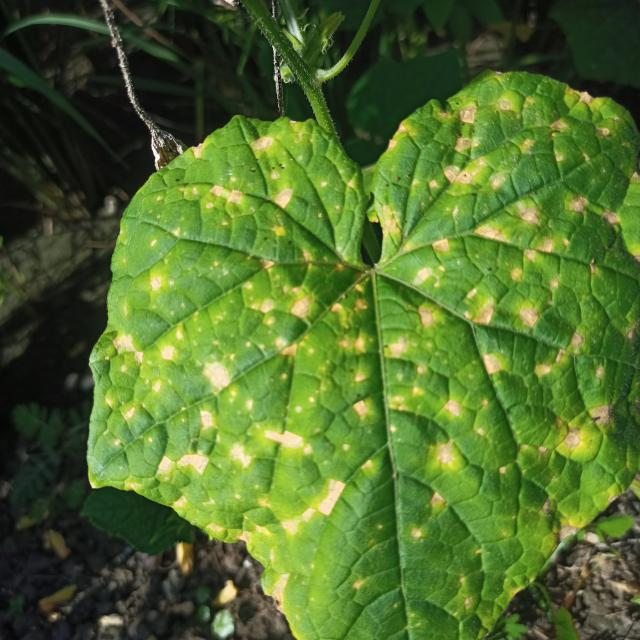disease_cucumber: (99, 81, 636, 636)
